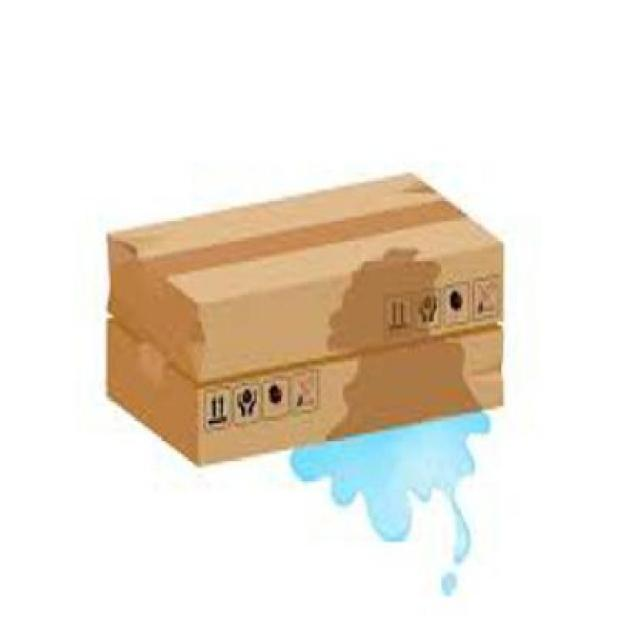defect: (97, 168, 511, 477)
